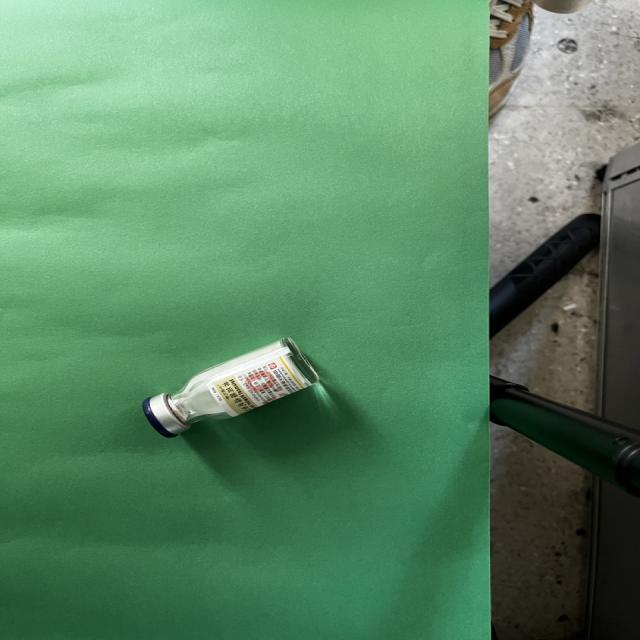Vials: (143, 338, 319, 438)
